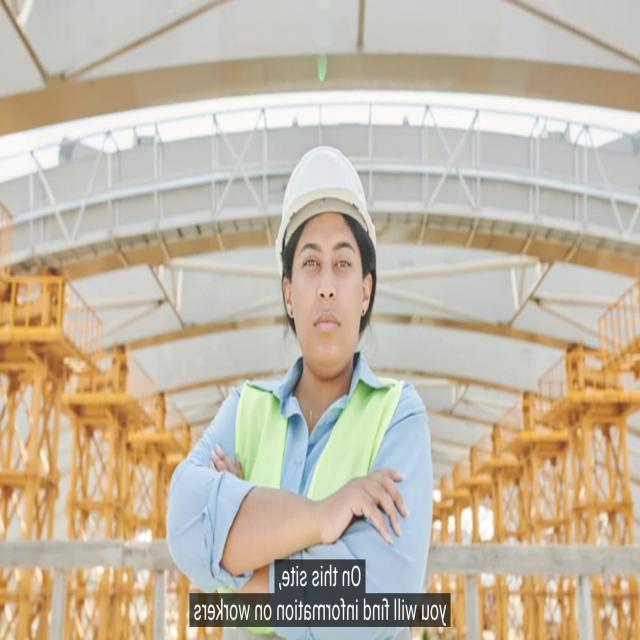Reflective-Jacket: (230, 363, 412, 567)
Safety-Helmet: (273, 138, 382, 261)
